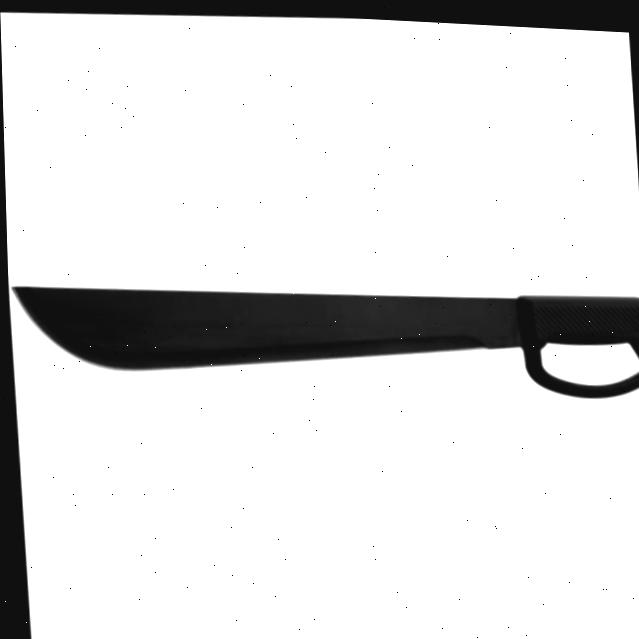long knife: (10, 251, 639, 426)
